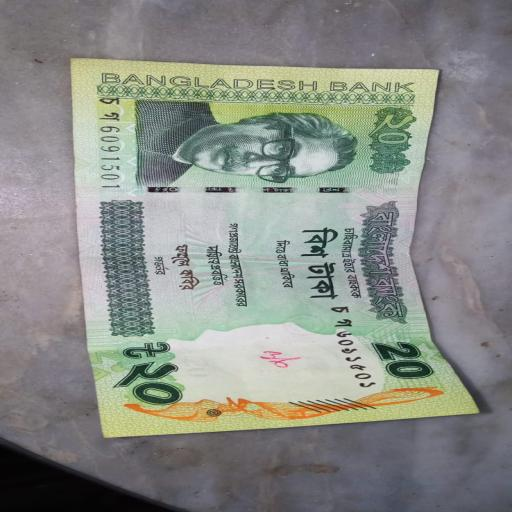20taka: (67, 62, 492, 441)
